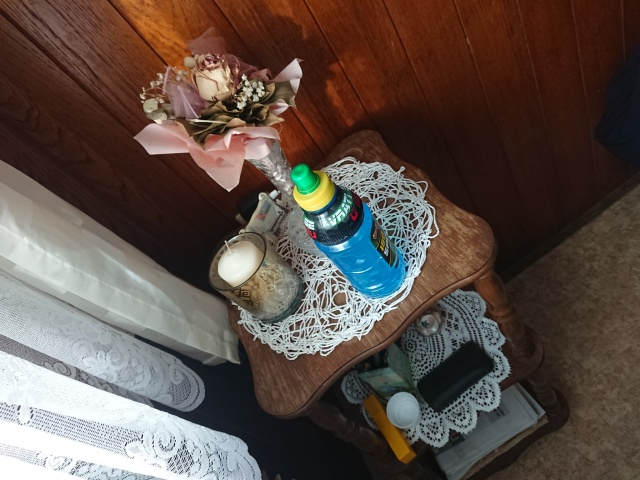Vindi Iso Sport Forest Strawberries 500mL: (288, 161, 406, 300)
